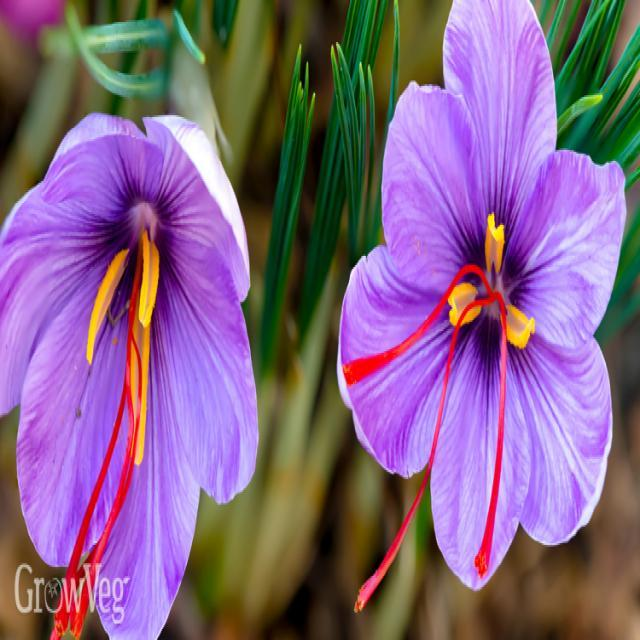Flower: (330, 0, 627, 597), (3, 106, 262, 640)
stigma: (35, 338, 144, 640), (353, 386, 451, 606), (337, 269, 453, 382), (475, 288, 513, 580)
